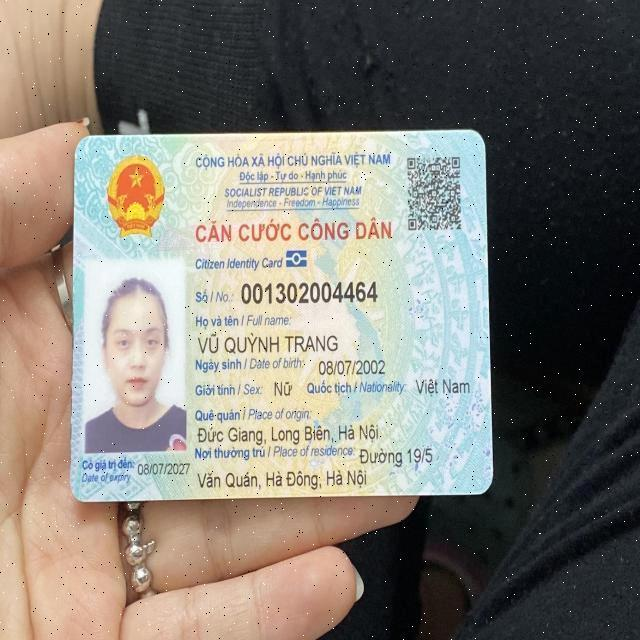current_place: (196, 465, 371, 491), (356, 442, 433, 463)
dob: (319, 356, 393, 373)
expire_date: (134, 457, 196, 479)
gender: (268, 377, 295, 404)
id: (236, 276, 381, 308)
name: (195, 330, 340, 354)
nationality: (414, 370, 473, 401)
origin_place: (195, 421, 383, 443)
qr: (399, 147, 469, 239)
